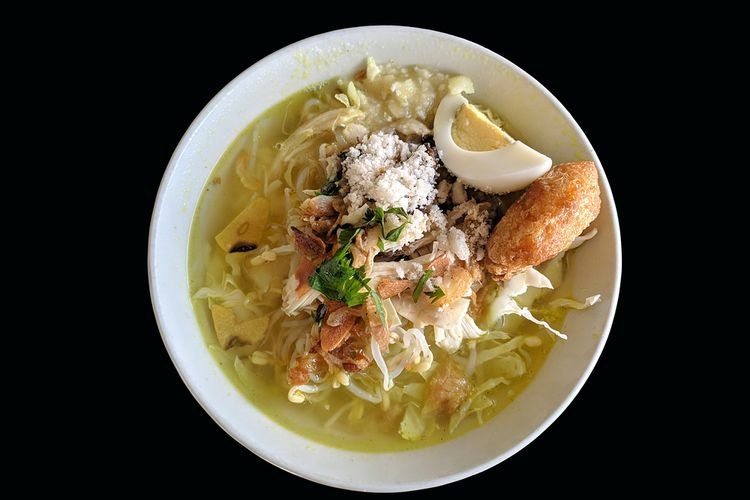soto: (179, 84, 571, 432)
